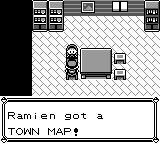leer: (81, 1, 95, 13)
main: (65, 60, 79, 77)
no-caminable: (1, 1, 32, 96), (80, 49, 112, 79), (33, 1, 64, 31), (96, 1, 142, 16), (144, 1, 159, 32), (64, 1, 81, 16)
npc: (66, 44, 78, 59)
texto: (0, 97, 159, 142)
